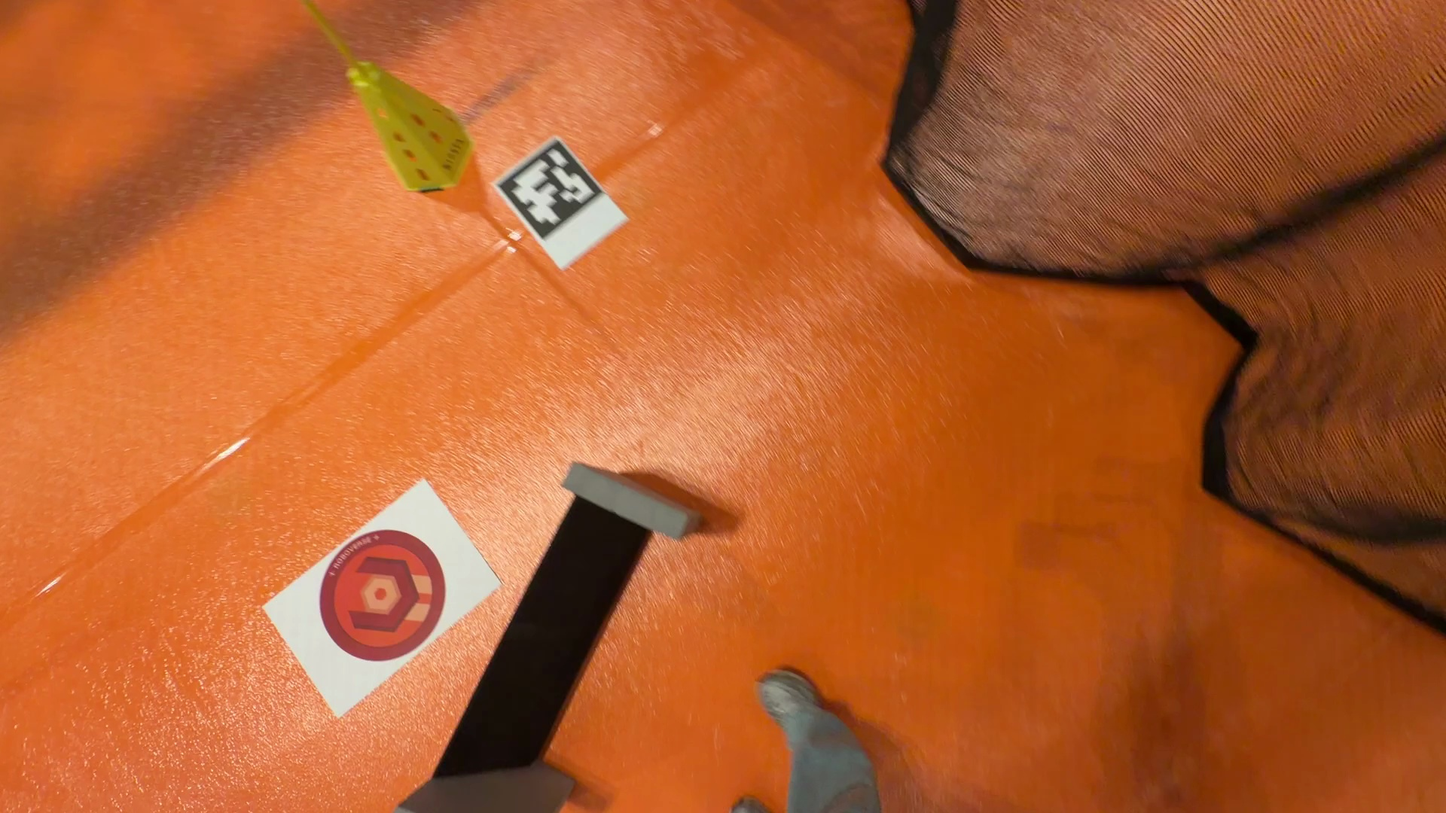landing_pad: (316, 519, 451, 670)
